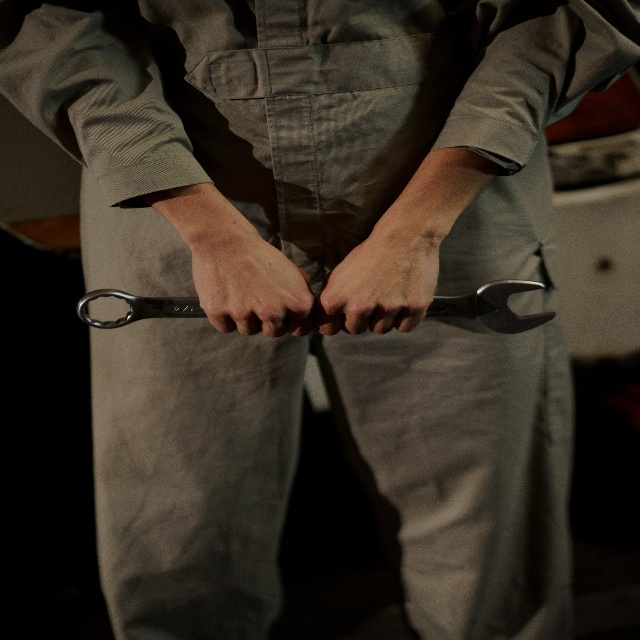Sin_guantes: (192, 219, 315, 339), (317, 221, 439, 337)
